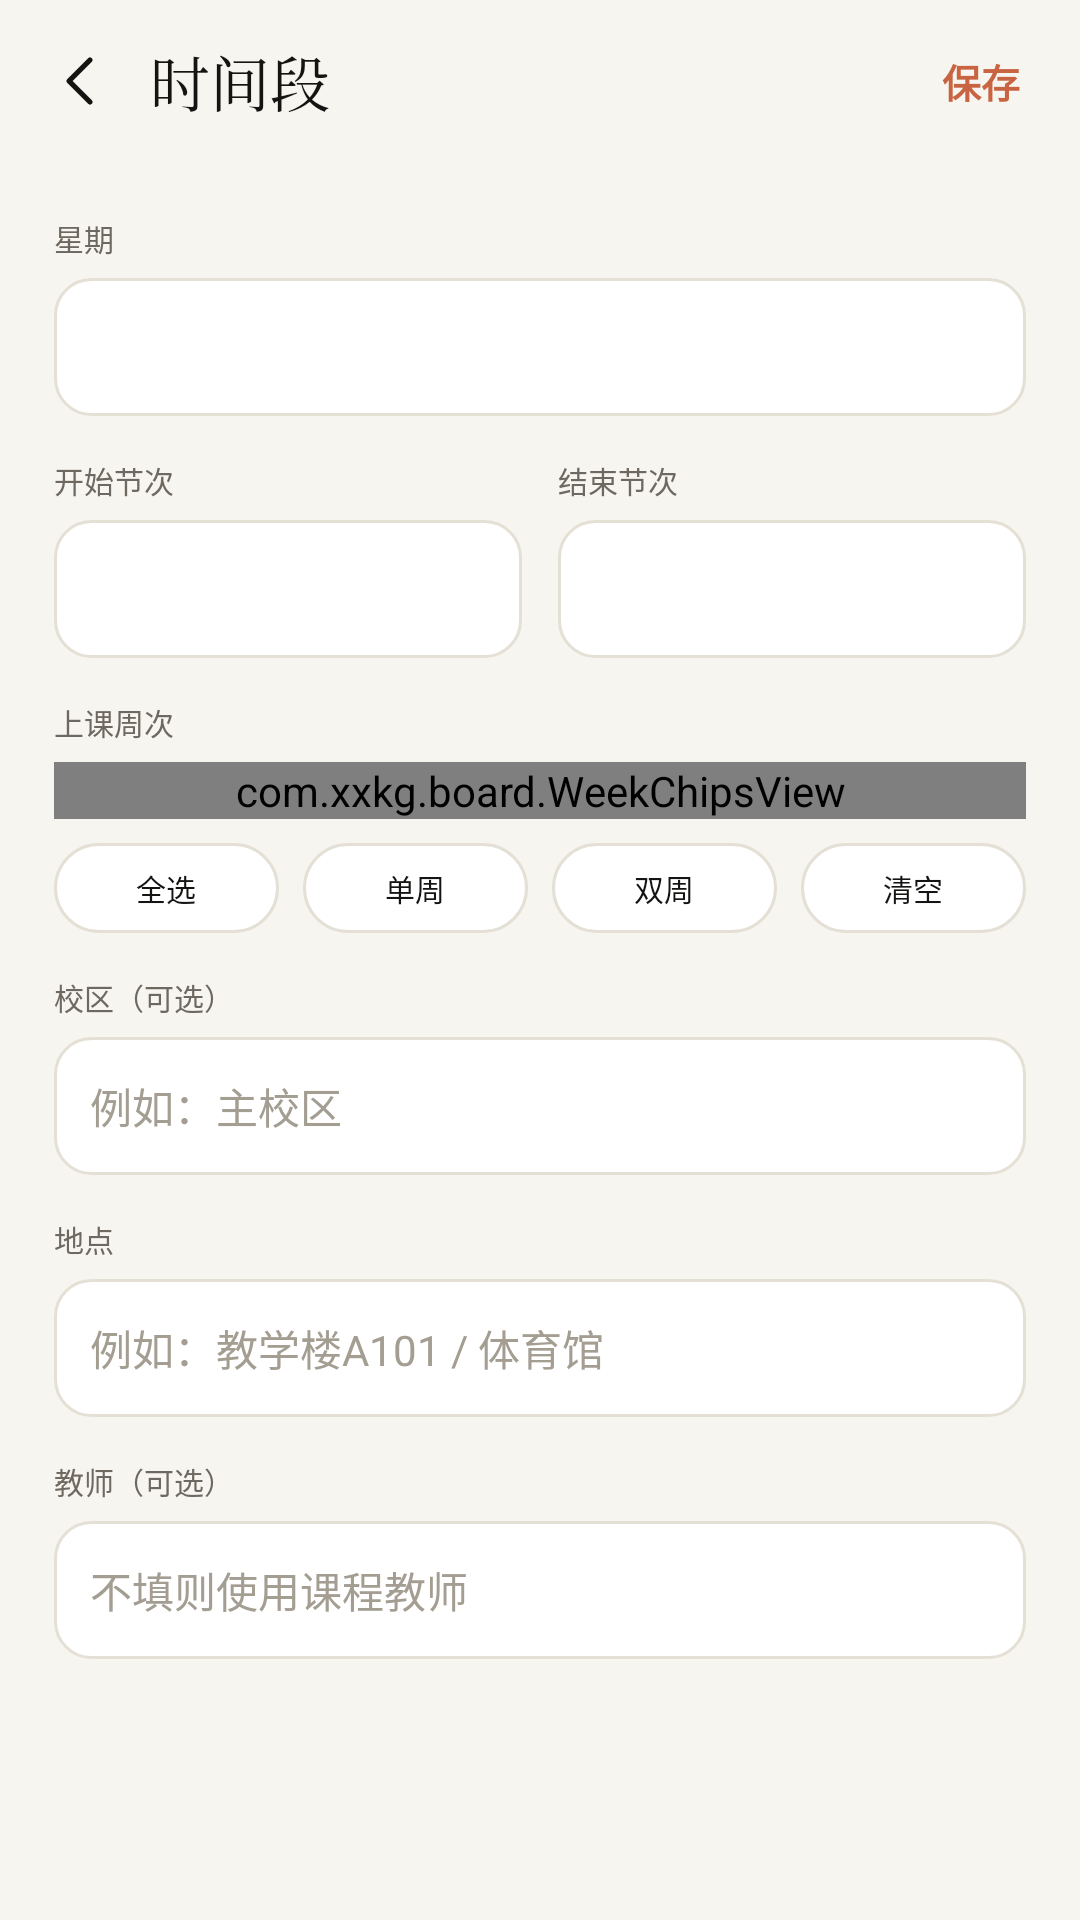

Icons on this 1080px x 1920px Android screen, each with its box as (x1, y1, x2, y2):
返回: (66, 57, 93, 105)
